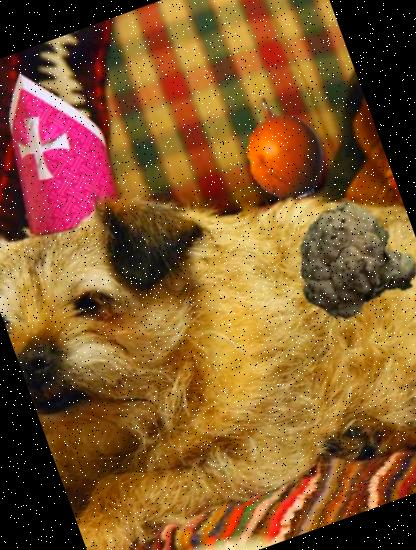Cauliflower: (276, 180, 416, 335)
Granadilla: (214, 78, 350, 214)
